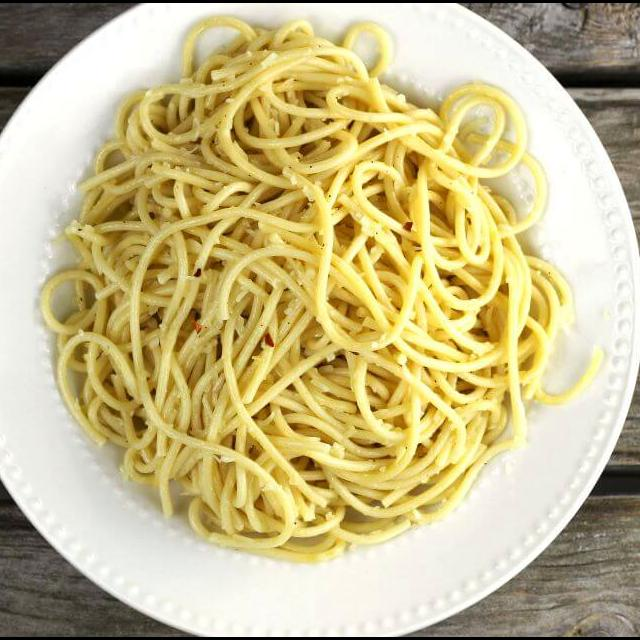noodles: (43, 17, 610, 565)
